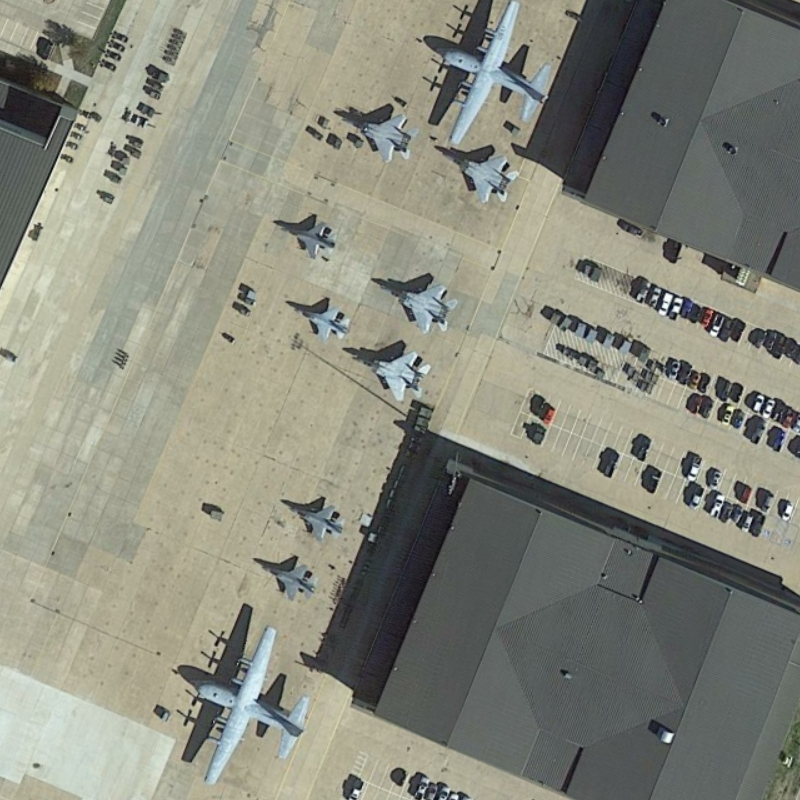A13: (372, 268, 468, 343), (343, 342, 443, 410), (326, 96, 417, 169), (439, 147, 529, 210)
A2: (176, 618, 315, 794), (417, 1, 560, 150)
A5: (276, 487, 355, 545), (249, 549, 329, 606), (280, 294, 357, 351), (271, 211, 346, 269)
